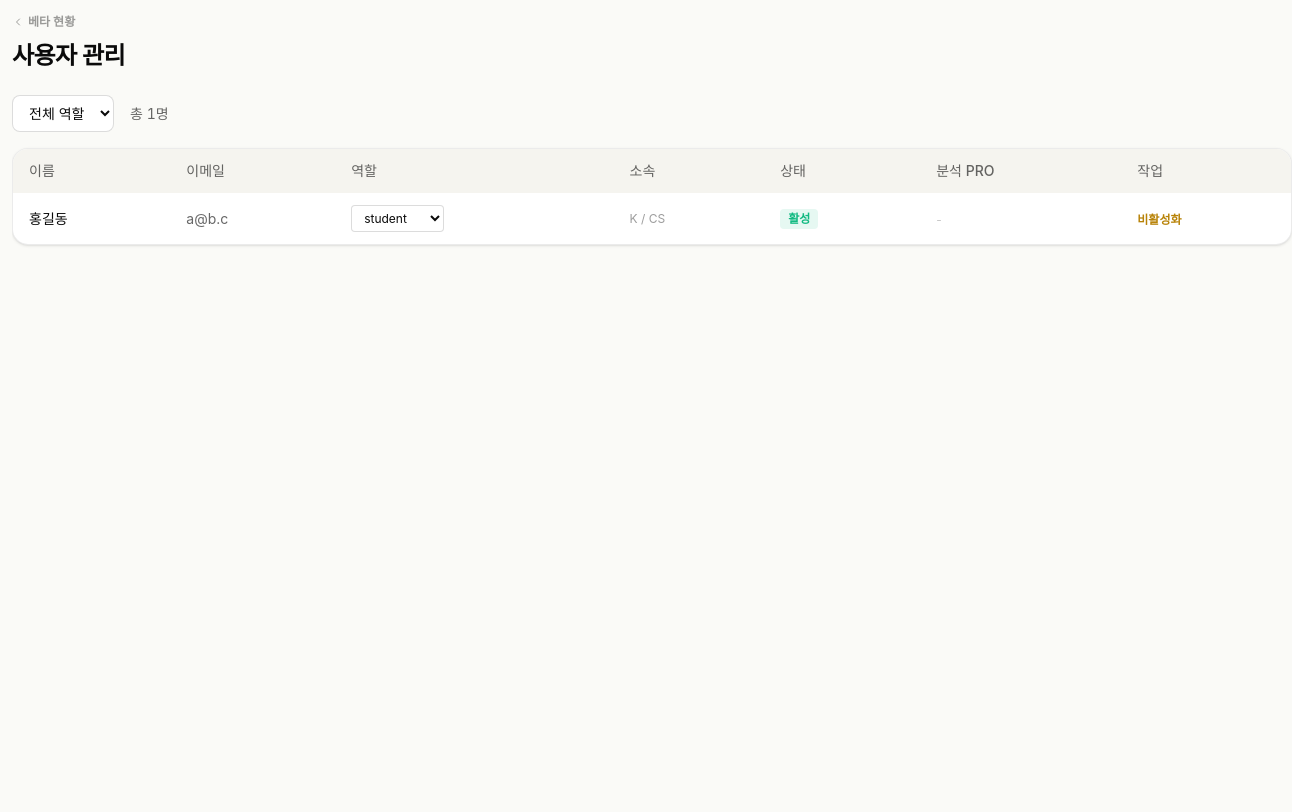
Test case: AdminUsersPage › shows error toast (no alert) when role change fails
Expected: the text "a@b.c" is shown, [170,193,335,244]
Select "professor" in the dropdown named "역할" in the row of "홍길동" at (398,218), box [351,205,444,232]
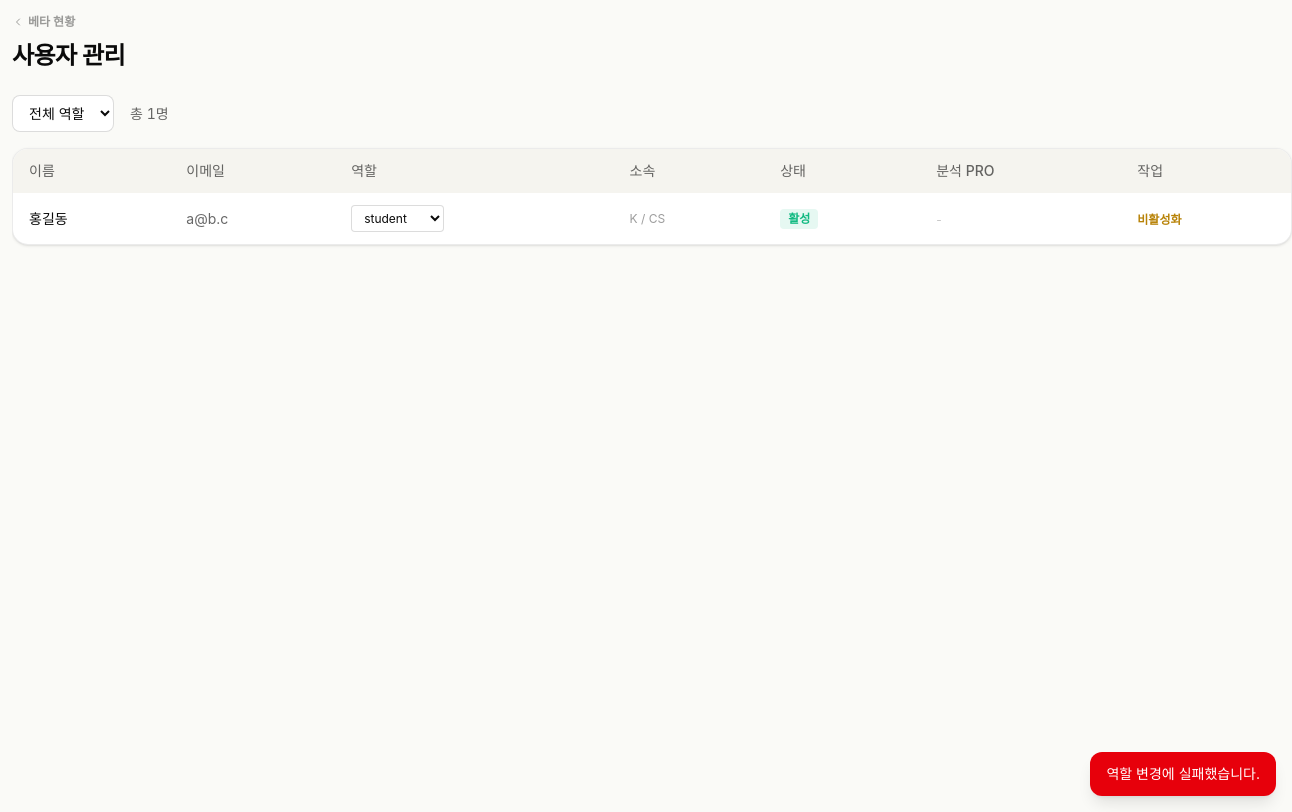
Expected: the text "역할 변경에 실패했습니다." is shown, [1090,752,1276,796]
